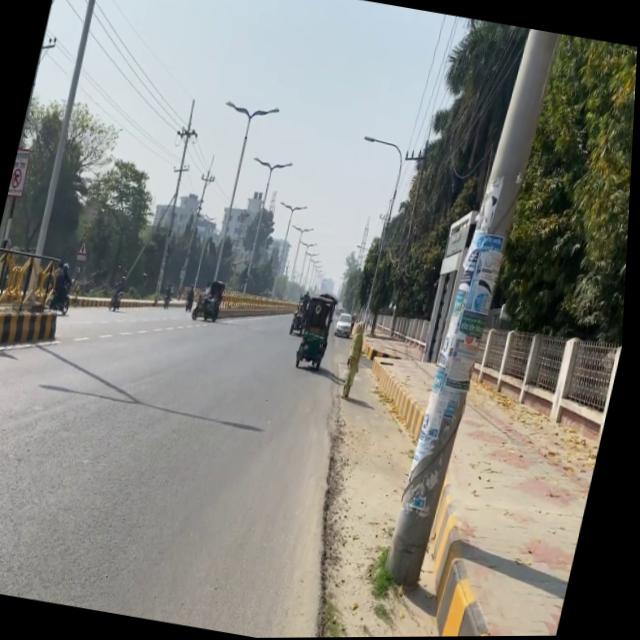Construction-barrier: (276, 354, 389, 638), (343, 328, 446, 445), (430, 554, 534, 637), (0, 293, 66, 359)
Fallen-tree: (193, 277, 230, 324), (296, 327, 333, 371), (291, 309, 309, 336)
Garbage-bin: (341, 320, 372, 399), (110, 274, 131, 311), (186, 285, 199, 312)
Light-pole: (386, 25, 560, 592)
Pothole: (292, 320, 622, 638)
